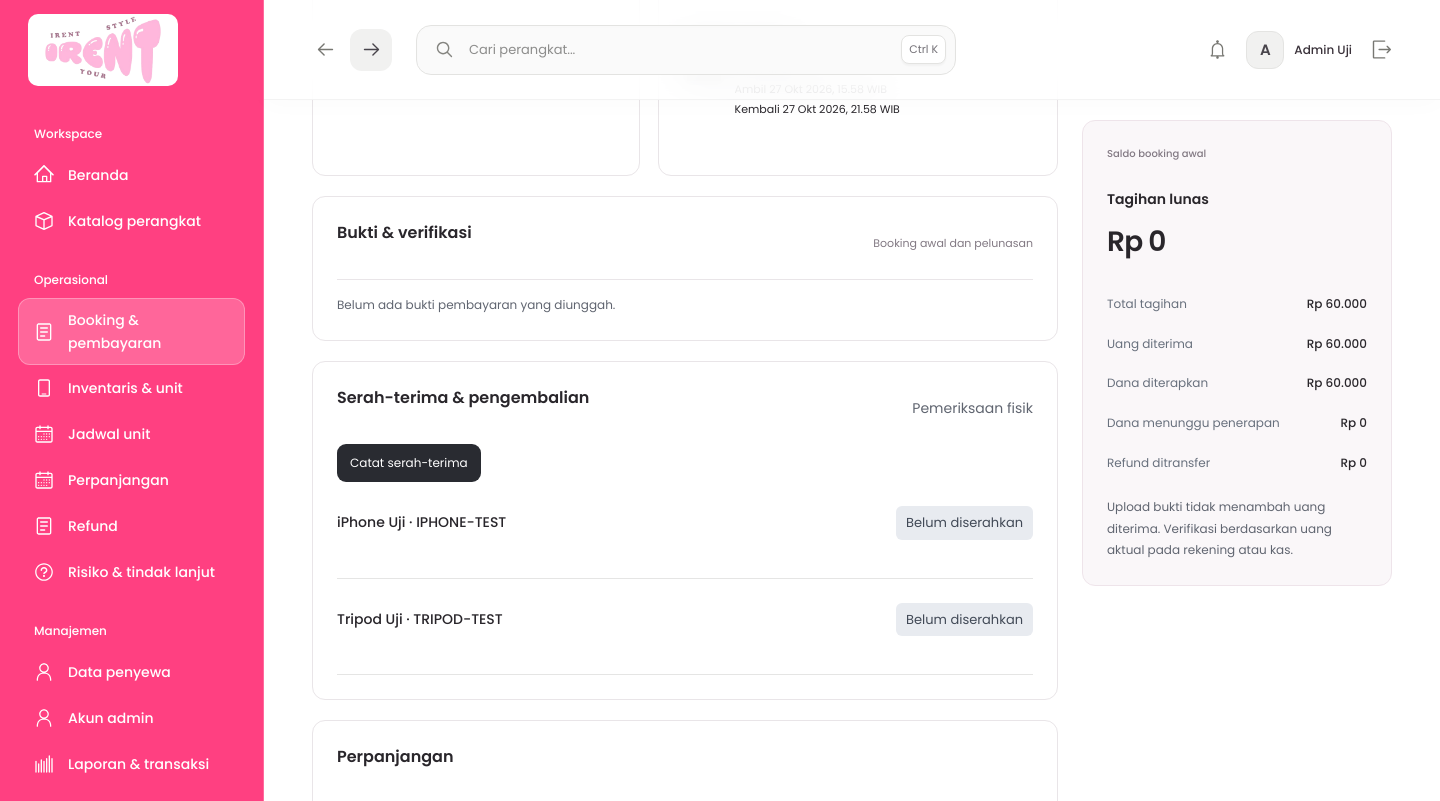
confirms handover once and refreshes the booking status
(page scrolled)
Click the button "Catat serah-terima".
click(409, 463)  # box [337, 444, 481, 482]
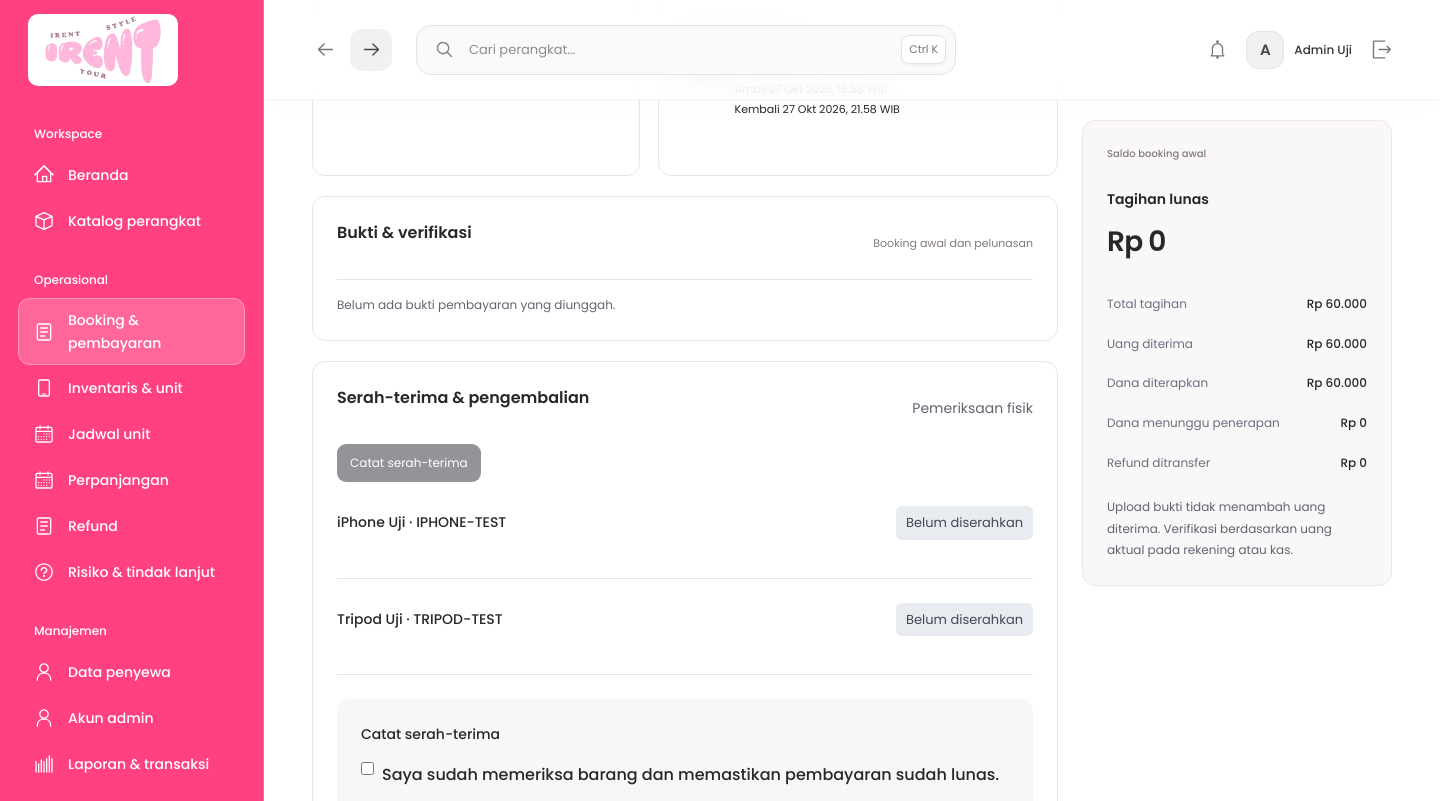
Click the checkbox labelled "sudah memeriksa barang".
click(368, 768)  # box [361, 762, 374, 775]
(page scrolled)
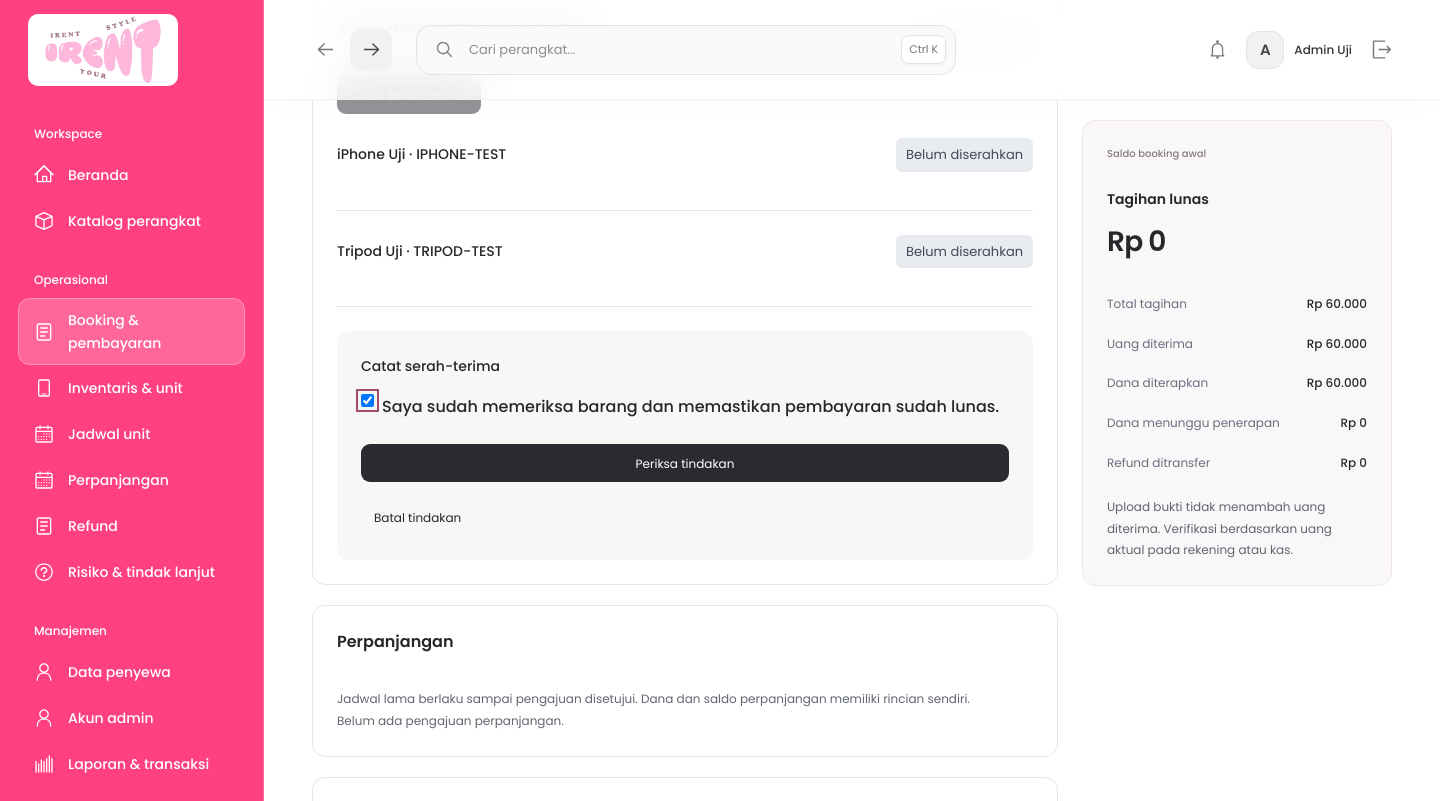
Click the button "Periksa tindakan".
click(685, 463)  # box [361, 444, 1009, 482]
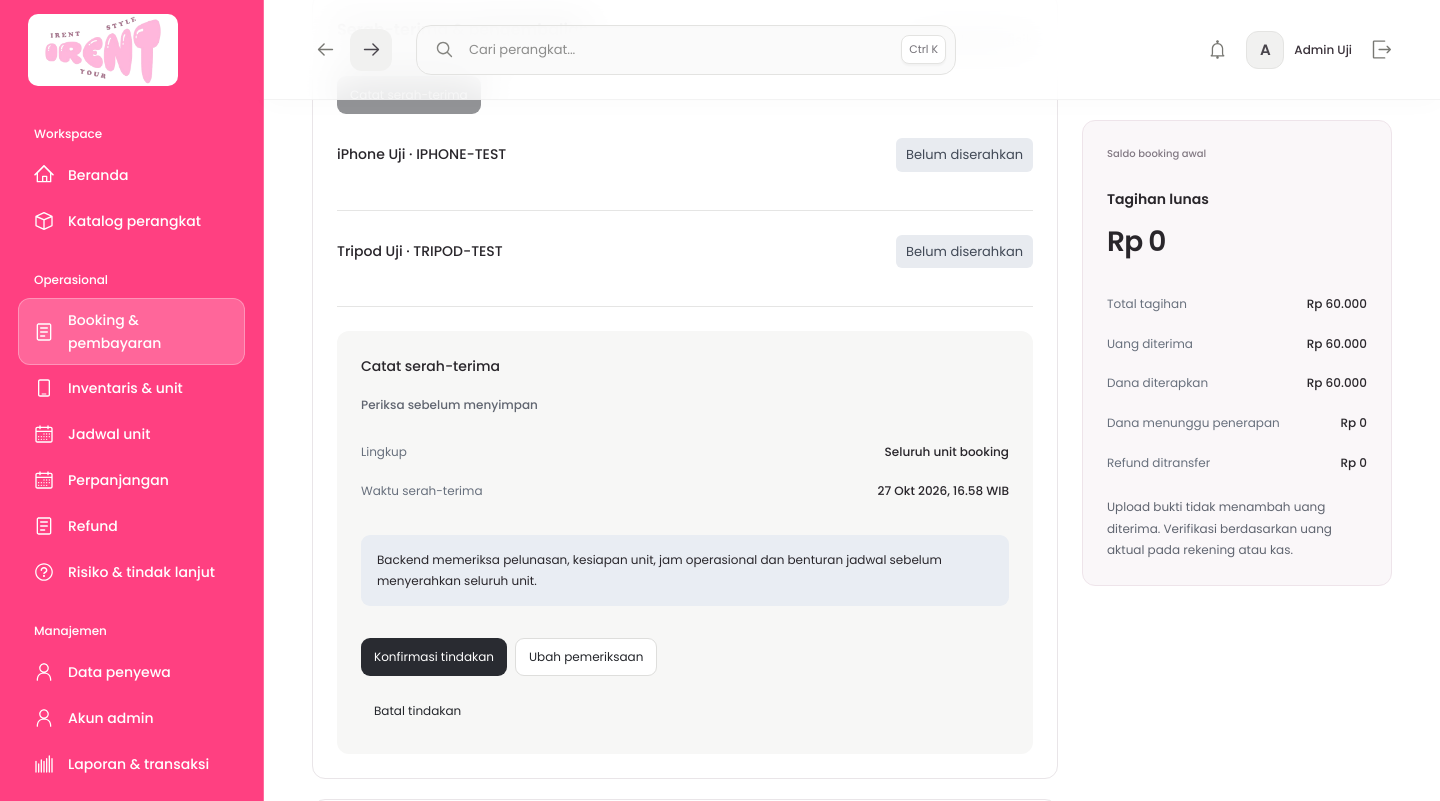
Click the button "Konfirmasi tindakan".
click(434, 657)  # box [361, 638, 507, 676]
(page scrolled)
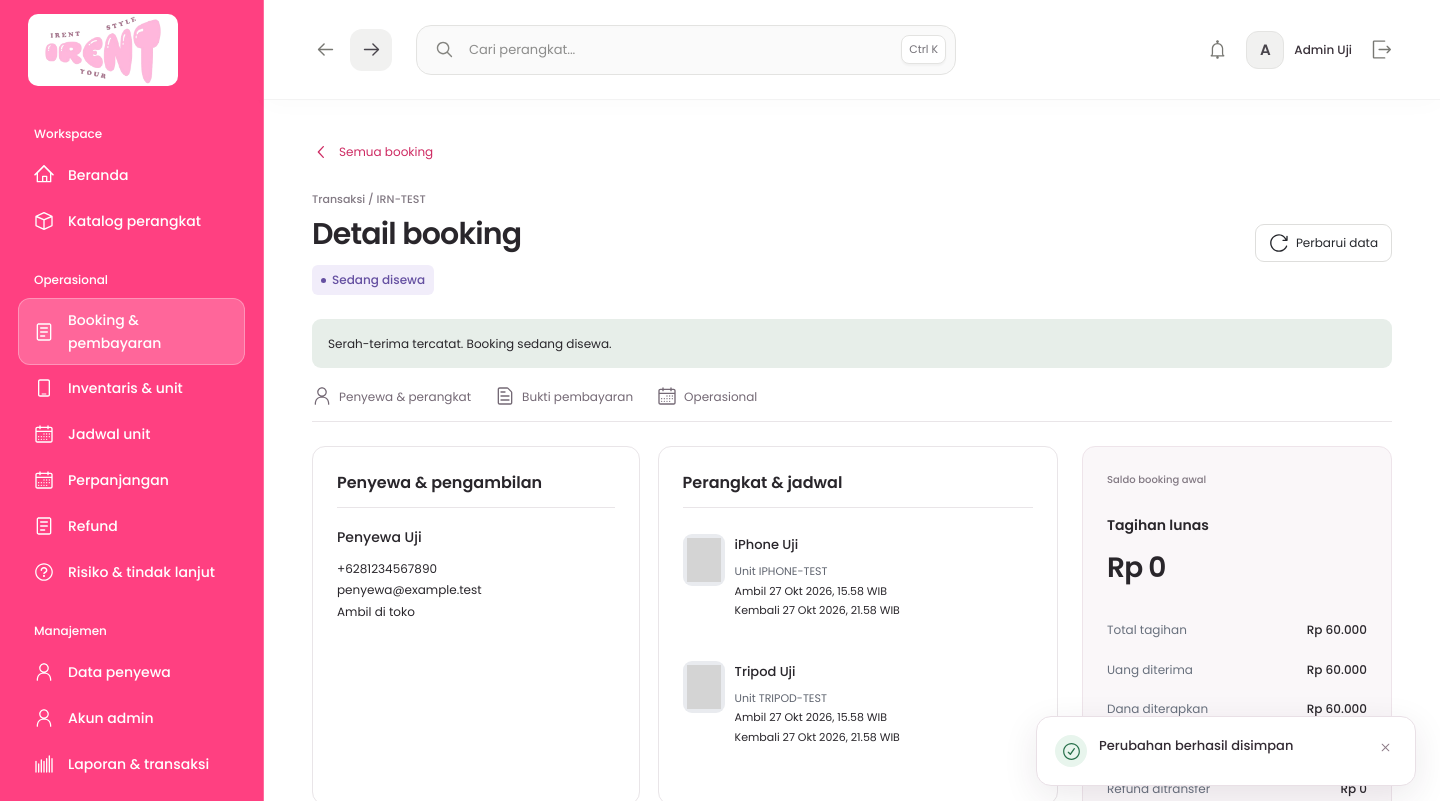
Now the text "Serah-terima tercatat. Booking sedang disewa." is shown, box [312, 319, 1392, 368]
Now the button "Catat serah-terima" is gone
